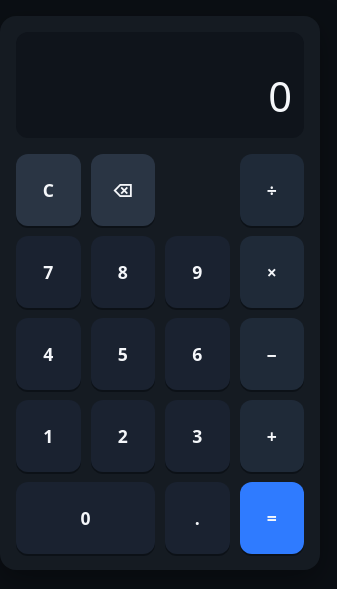
Calculator UI › divide by zero shows Error and resets next input
This screenshot has width=337, height=589.
Step 1. Click the button "8" → click(123, 272), box left=90, top=236, right=155, bottom=308
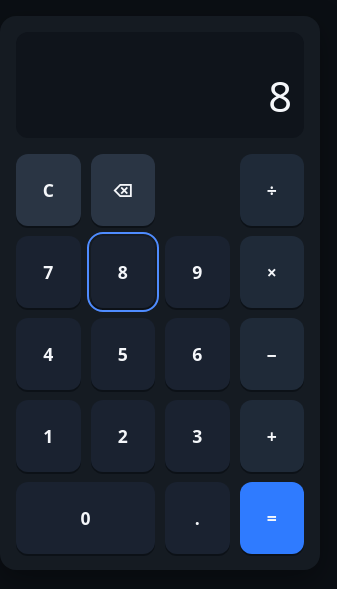
Step 2. Click the button named "Divide" → click(272, 190), box left=240, top=154, right=304, bottom=226
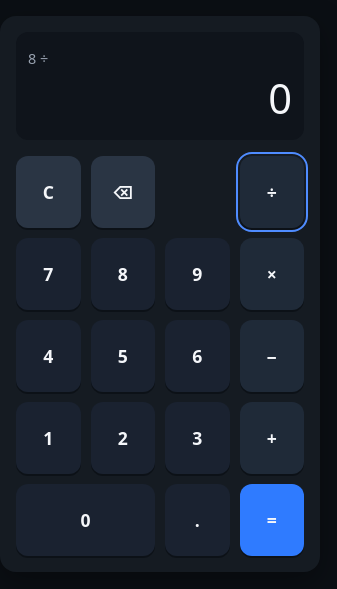
Step 3. Click the button "0" → click(86, 520), box left=16, top=484, right=155, bottom=556
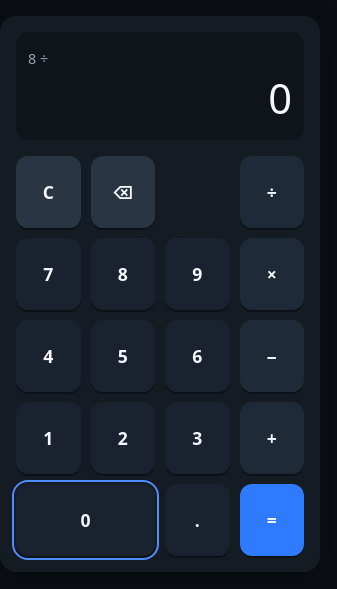
Step 4. Click the button named "Equals" → click(272, 520), box left=240, top=484, right=304, bottom=556
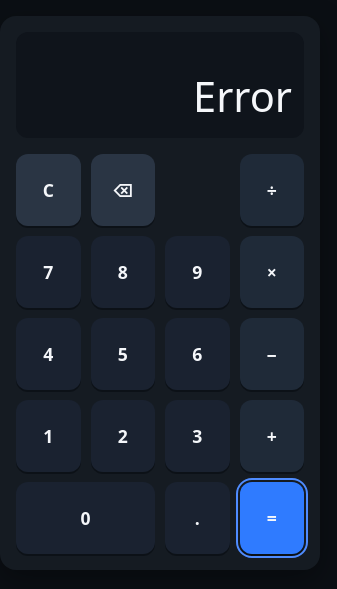
Now the text named "Current value" reads "Error", box left=193, top=68, right=292, bottom=124
Step 5. Click the button "7" → click(48, 272), box left=16, top=236, right=80, bottom=308
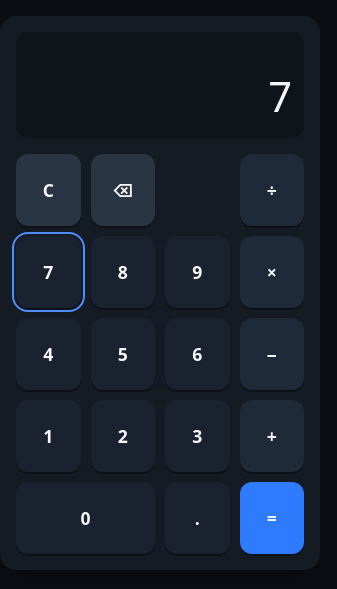
Now the text named "Current value" reads "7", box left=268, top=68, right=292, bottom=124
